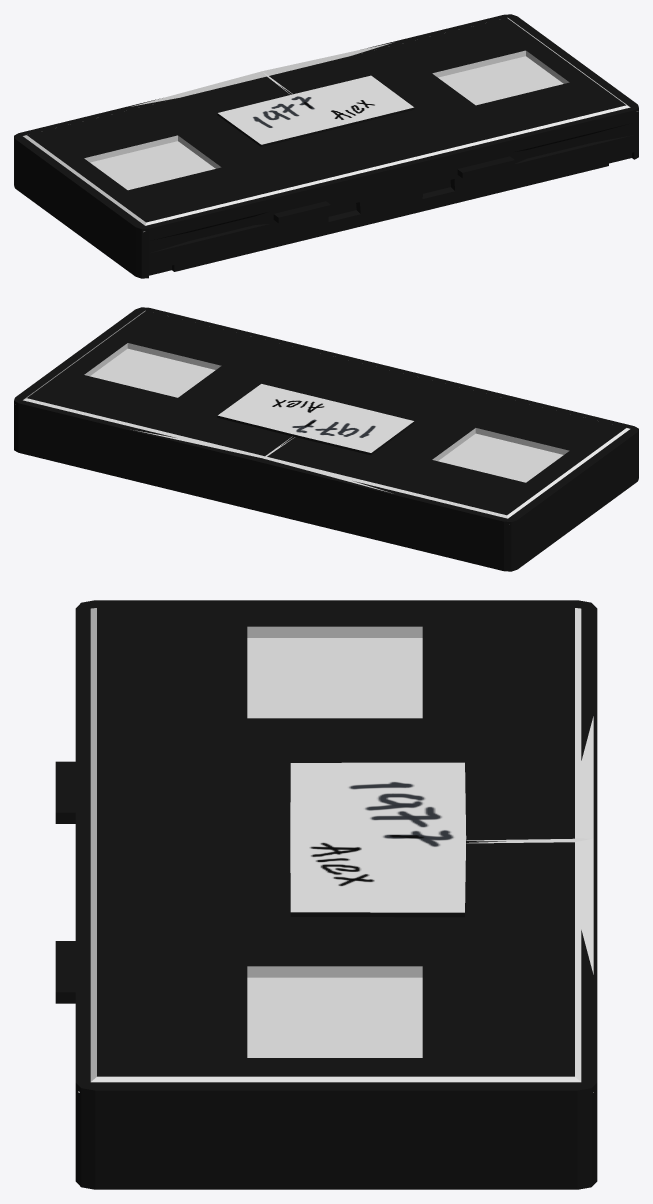
The model's file is VHS.fbx.
The picture shows the model from 3 angles, top to bottom: view 1: azimuth 30°, elevation 25°; view 2: azimuth 150°, elevation 25°; view 3: azimuth 270°, elevation 25°; orthographic projection. The views are drawn at different scales.
Visible parts, largest first — view 1: Tapa; view 2: Tapa; view 3: Tapa.
Boxes of the visible parts, left/top/right/bottom form: Tapa: left=14, top=14, right=638, bottom=278; Tapa: left=14, top=307, right=638, bottom=571; Tapa: left=55, top=600, right=597, bottom=1189.
Bounding box in the file's own units: 445 × 45.22 × 208.
Materials: 5 (1 with a texture image).
